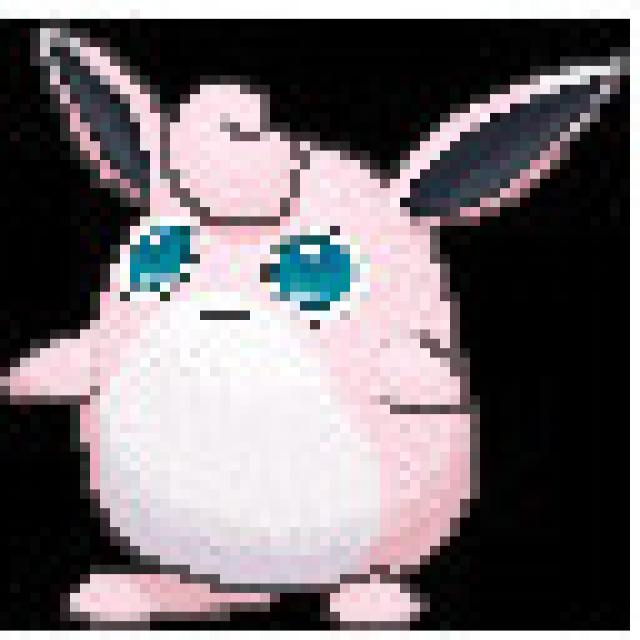Wigglytuff: (52, 70, 502, 624)
